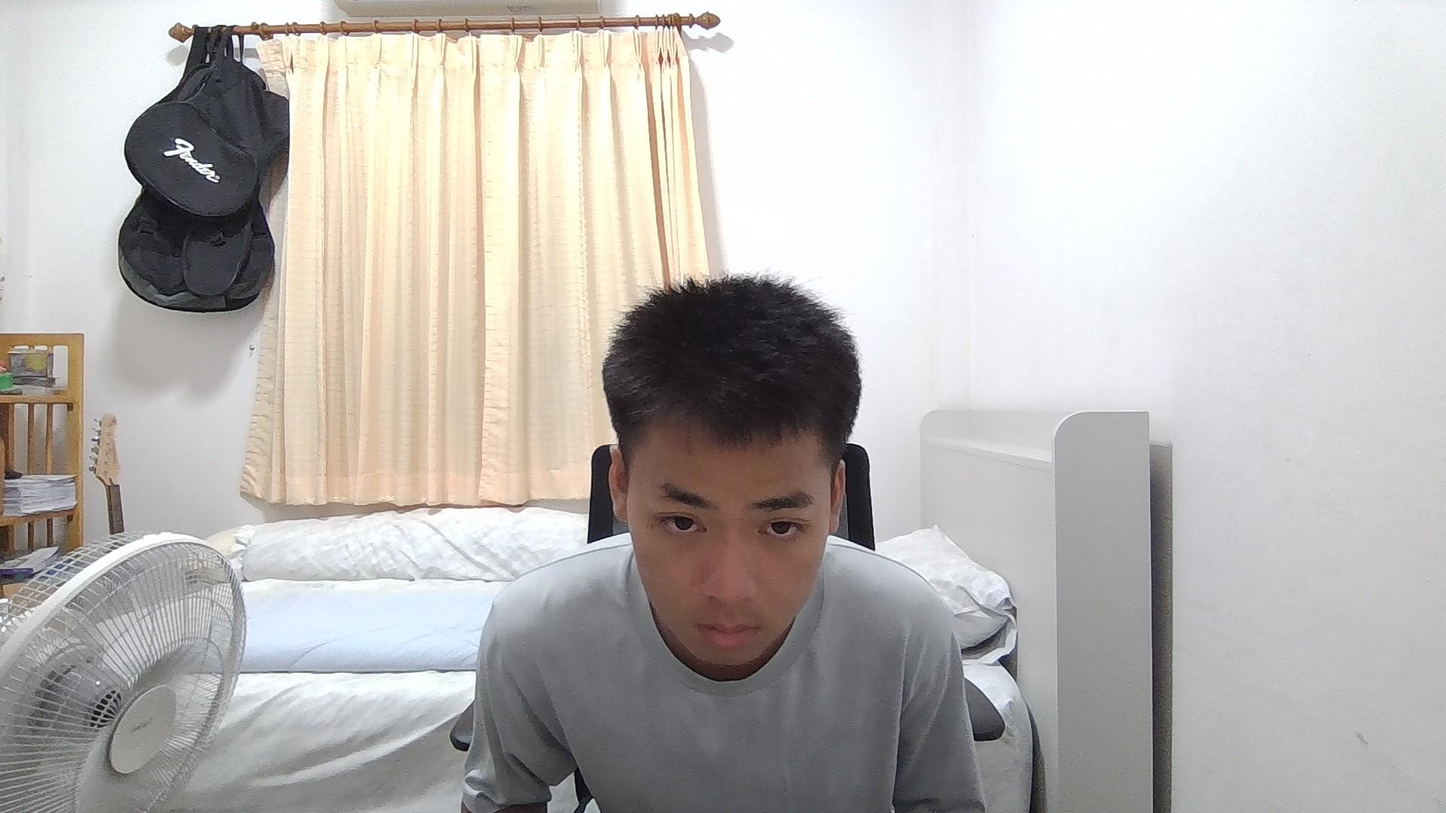BadPosture: (461, 276, 987, 812)
